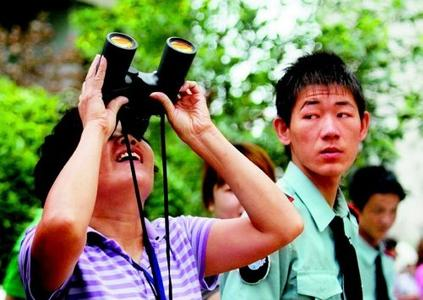person: (14, 82, 306, 298)
